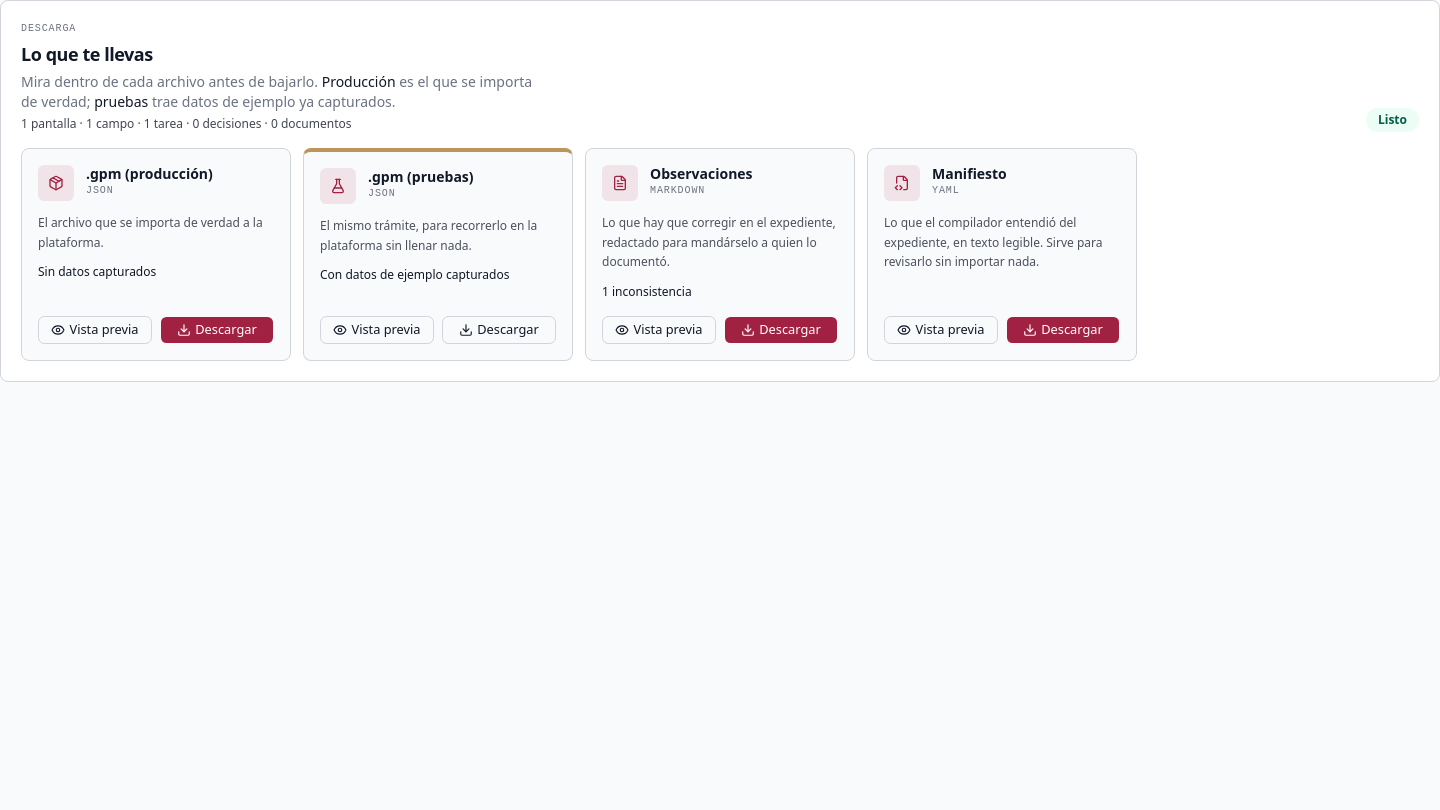
Scenario: la vista previa de las observaciones se arma aquí, sin ir al servidor
Click the button with aria-label "vista previa de Observaciones" at (659, 330), box [602,316,716,344]
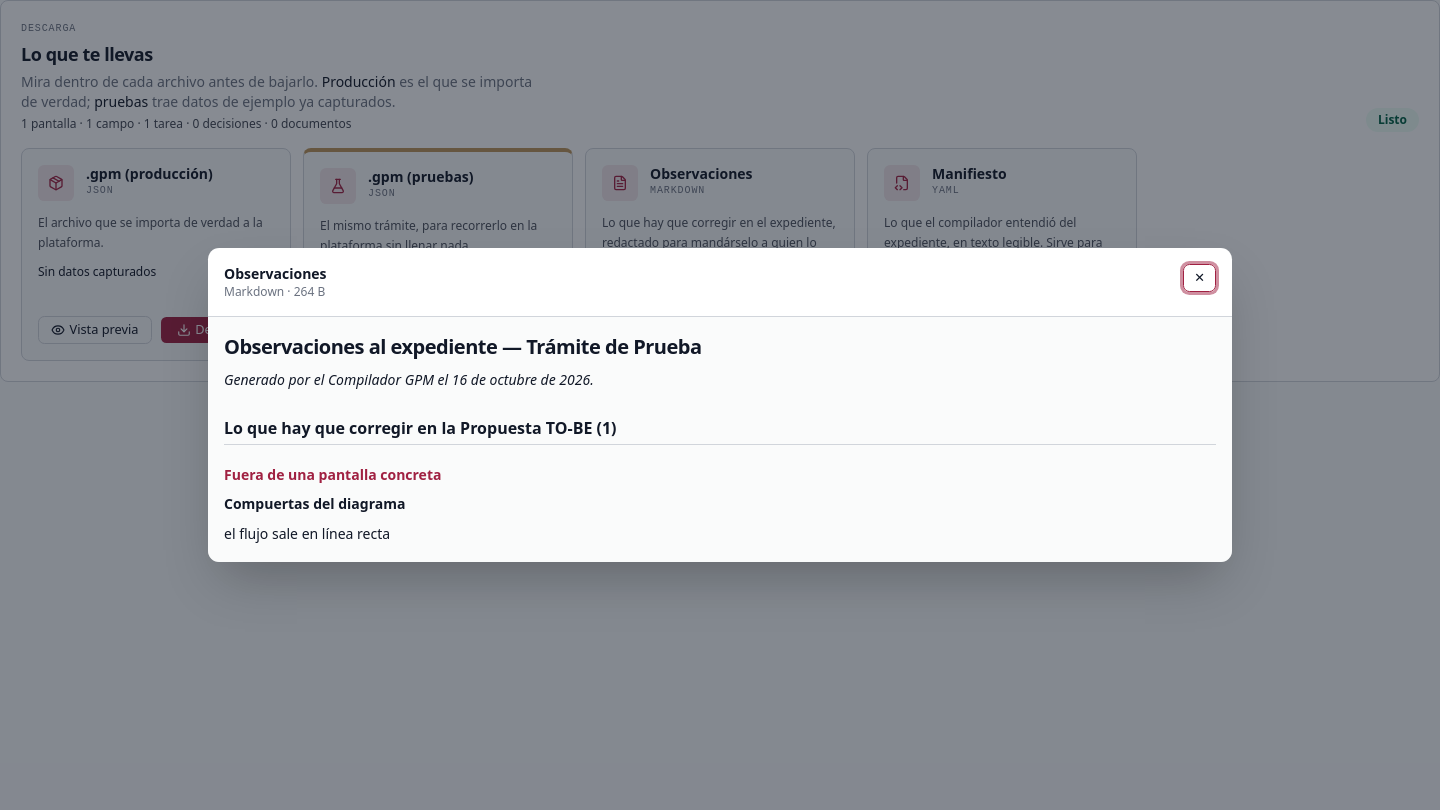
Result: the heading "Observaciones al expediente — Trámite de Prueba" is shown at [224,333,702,360]
